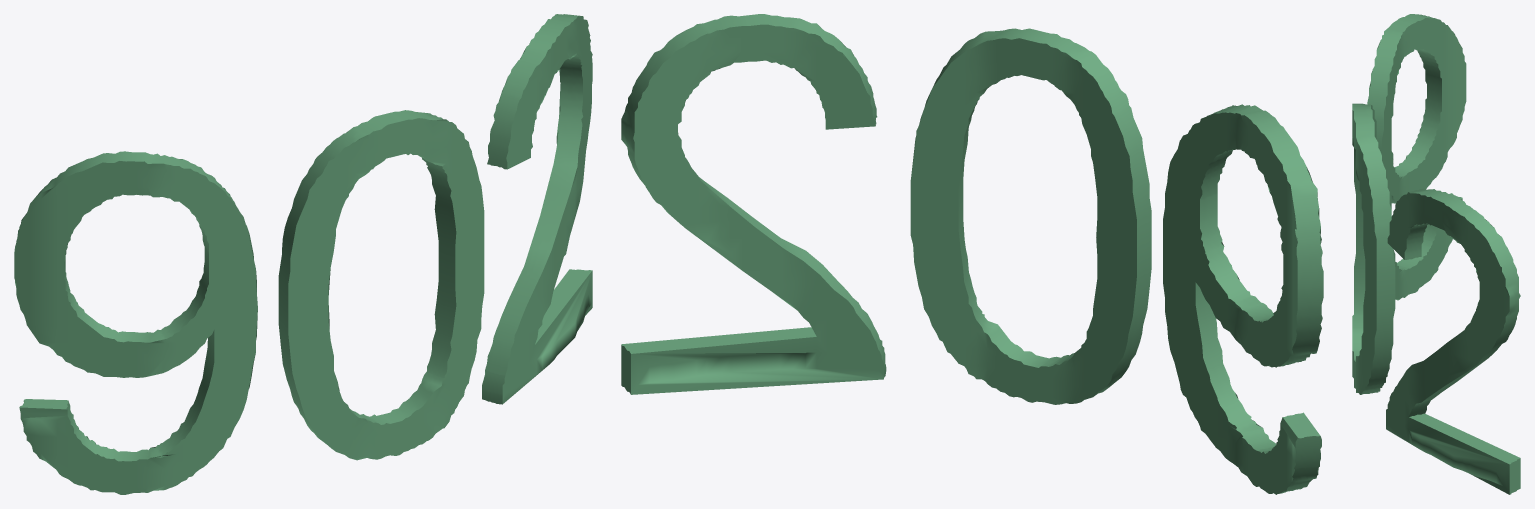
Rendered from port_2.obj.
The picture shows the model from 3 angles, left to right: view 1: azimuth 30°, elevation 25°; view 2: azimuth 150°, elevation 25°; view 3: azimuth 270°, elevation 25°; orthographic projection. The views are drawn at different scales.
Parts seen in each view (by area): view 1: Text01; view 2: Text01; view 3: Text01.
Part boxes in pixels (bbox=[...]): Text01: bbox=[14, 14, 592, 494]; Text01: bbox=[621, 14, 1323, 494]; Text01: bbox=[1352, 14, 1520, 494].
Size of the model in its own units: 3.06 by 1.59 by 0.9.
